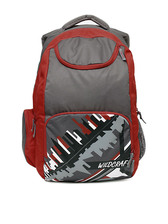bag: (18, 13, 150, 182)
